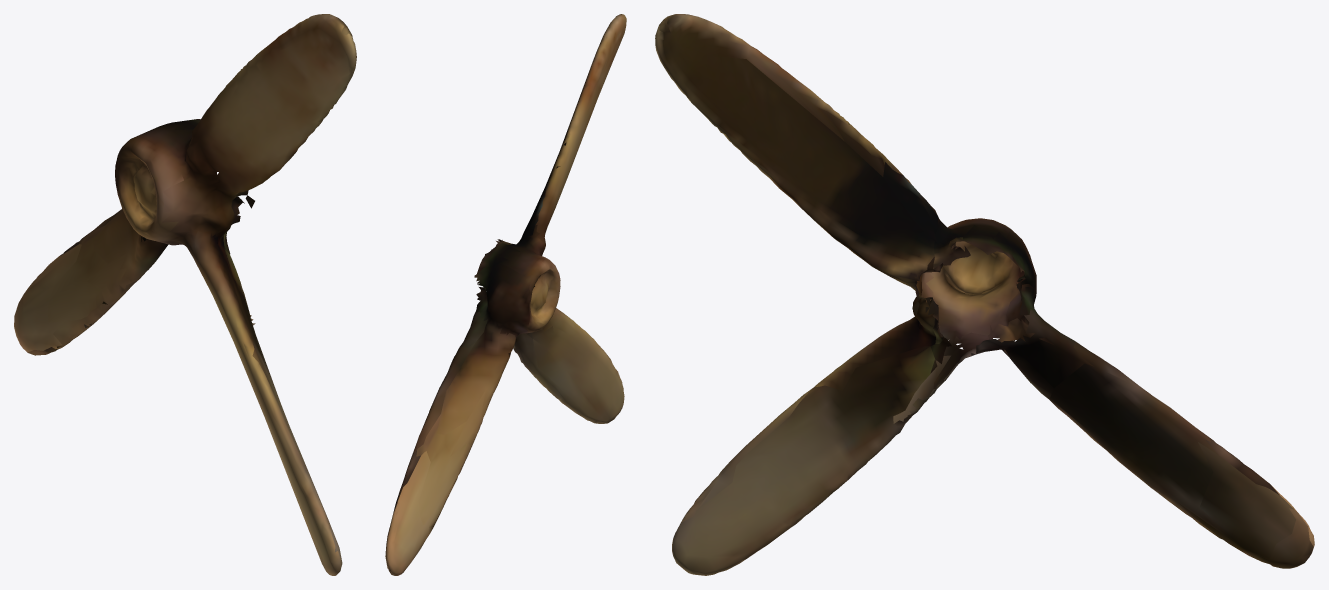
The model's file is helice.obj.
3 views of the same model, side by side, from view 1: azimuth 30°, elevation 25°; view 2: azimuth 150°, elevation 25°; view 3: azimuth 270°, elevation 25° (orthographic). The views are drawn at different scales.
Parts seen in each view (by area): view 1: nave.001; view 2: nave.001; view 3: nave.001.
Part boxes in pixels (bbox=[...]): nave.001: bbox=[14, 14, 356, 575]; nave.001: bbox=[385, 14, 626, 575]; nave.001: bbox=[655, 14, 1314, 575].
Size of the model in its own units: 0.0435 by 0.2762 by 0.2957.
1 material, 1 textured.
